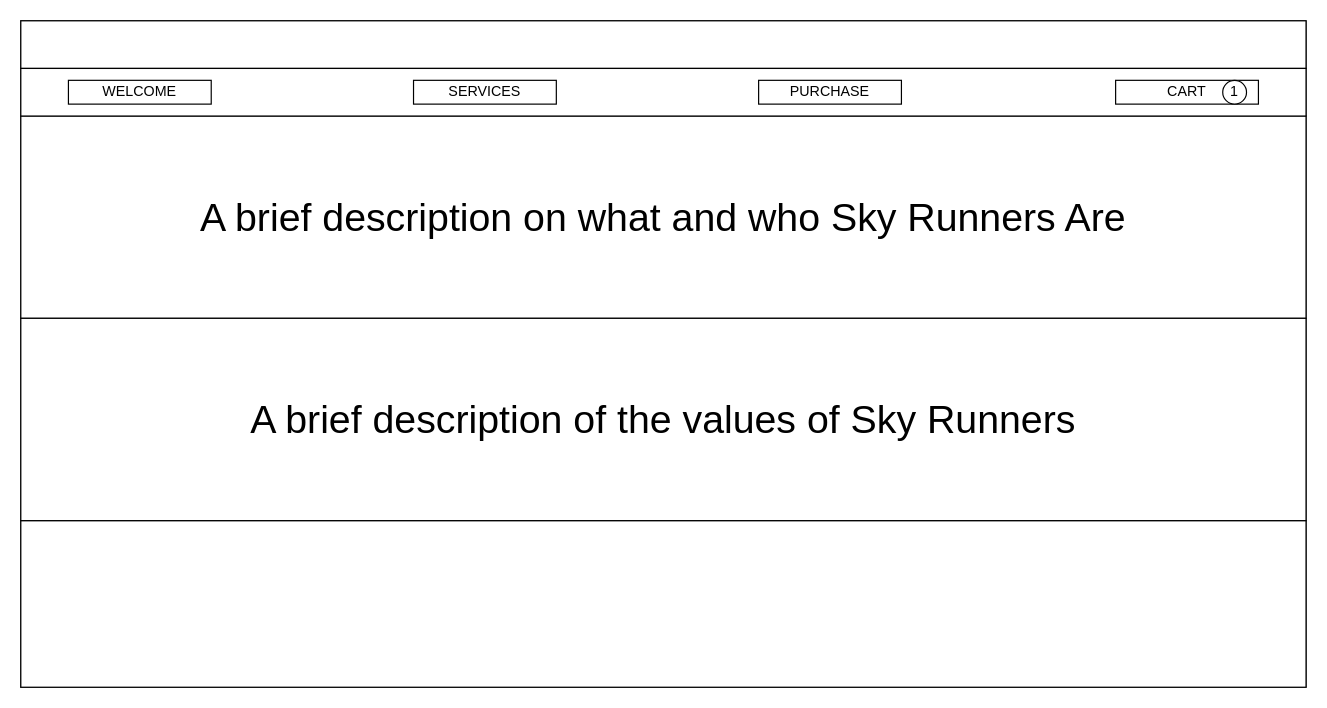
Some shapes in this 1327 by 708 pixel diagram are drawn without their labels. Here are the shapes that lost their labels. From the top down, the centre of each, then its label:
the point at 663,44: Sky Runners
the point at 663,603: A brief comment from the founder(?)
